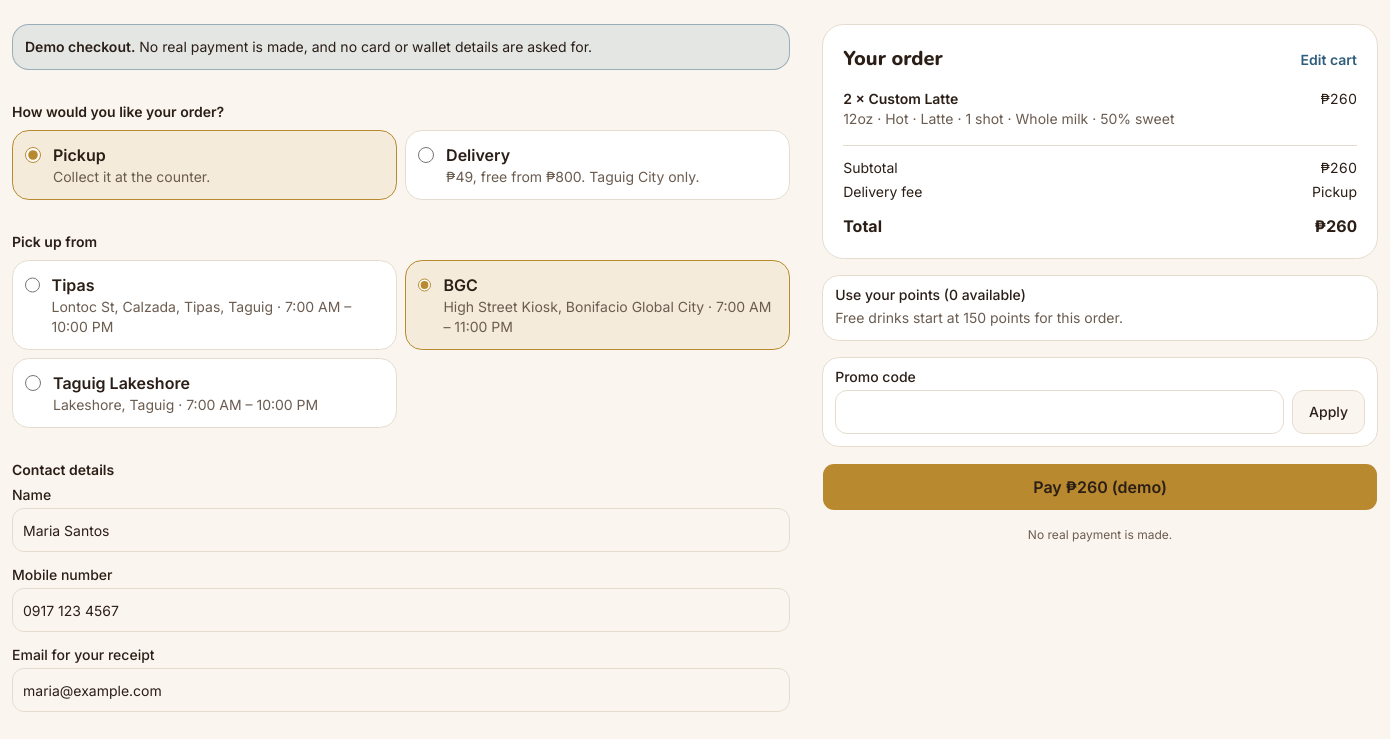
Test: CheckoutForm › explains a lost connection
Step 1. Click the button "Pay ₱260 (demo)" → (1100, 487), box [822,463,1378,511]
Wait 1500 ms
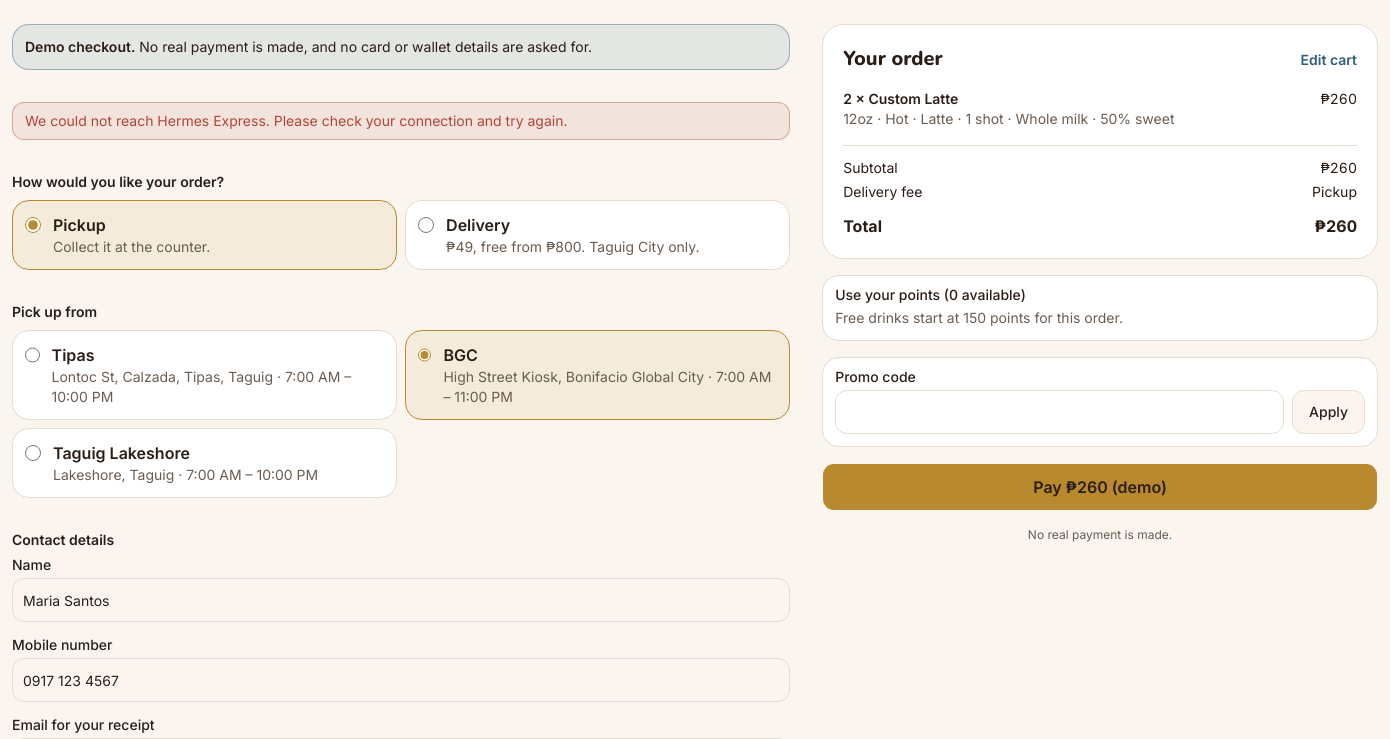
Now the message shows "could not reach", box [25,112,568,129]
